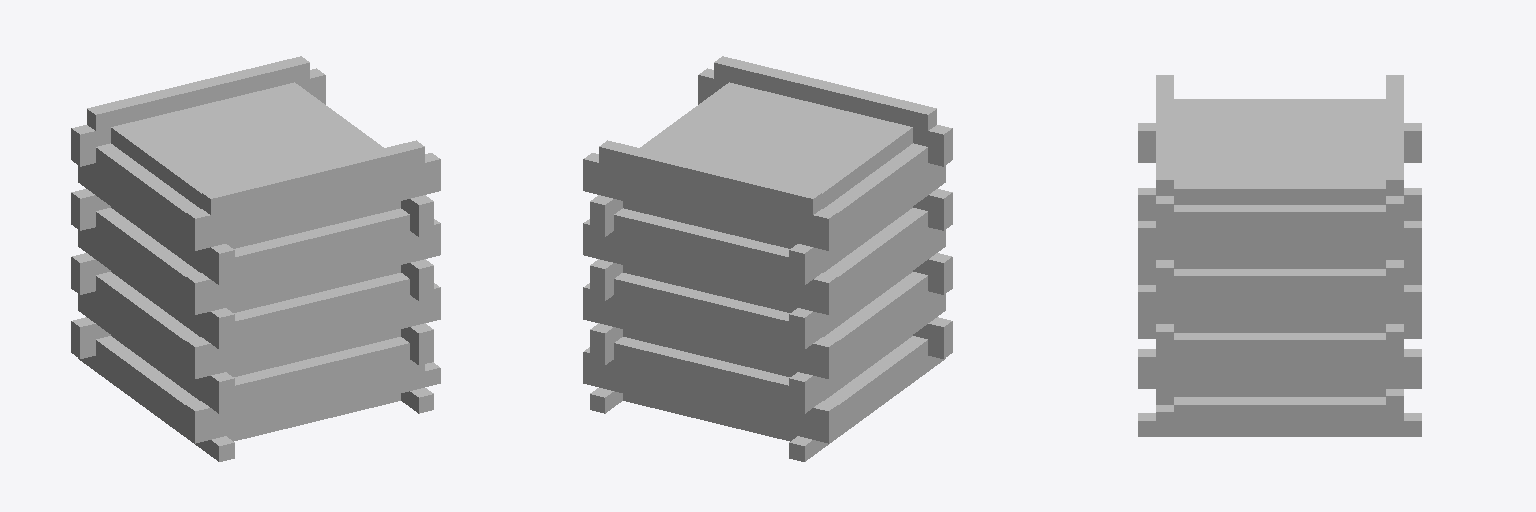
The model's file is composting_composter_filled.obj.
3 views of the same model, side by side, from view 1: azimuth 30°, elevation 25°; view 2: azimuth 150°, elevation 25°; view 3: azimuth 270°, elevation 25° (orthographic).
Parts seen in each view (by area): view 1: node_0_0_0.001; view 2: node_0_0_0.001; view 3: node_0_0_0.001.
Part boxes in pixels (x1,y1,x2,y2): node_0_0_0.001: (71, 56, 440, 461); node_0_0_0.001: (583, 56, 952, 461); node_0_0_0.001: (1138, 75, 1421, 436).
Size of the model in its own units: 1 by 1 by 1.